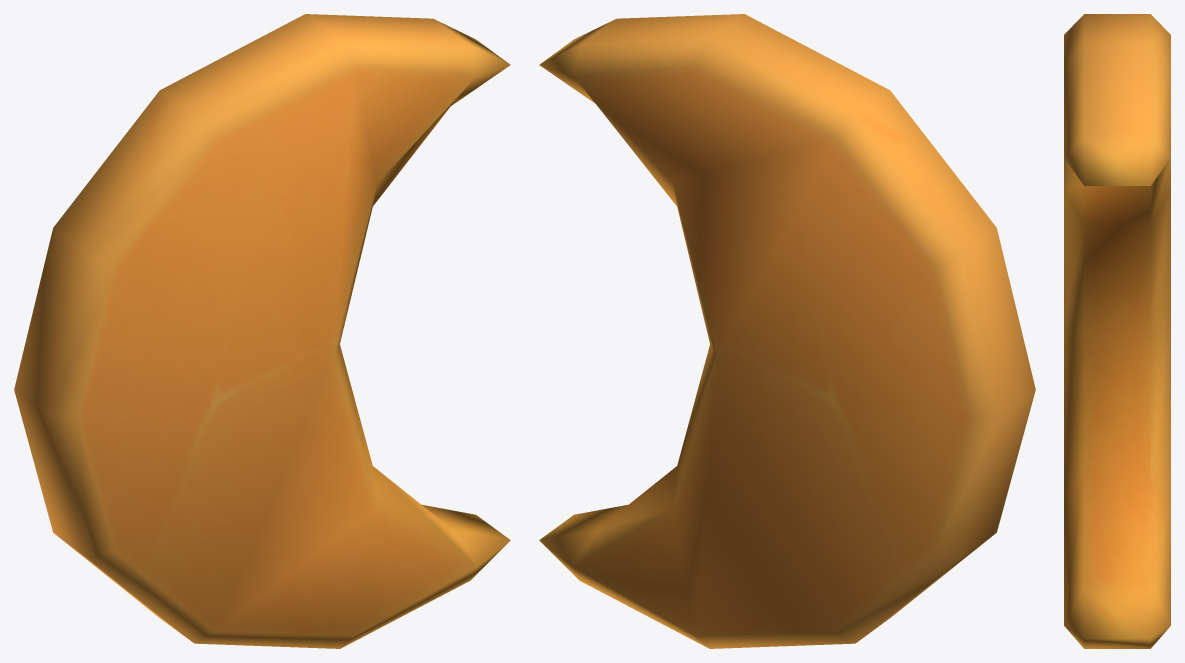
The model's file is Crescent_01.fbx.
3 views of the same model, side by side, from view 1: azimuth 30°, elevation 25°; view 2: azimuth 150°, elevation 25°; view 3: azimuth 270°, elevation 25° (orthographic). The views are drawn at different scales.
Parts seen in each view (by area): view 1: Crescent_01; view 2: Crescent_01; view 3: Crescent_01.
Boxes of the visible parts, x1,y1,x2,y2 form: Crescent_01: (14,14,510,648); Crescent_01: (539,14,1035,648); Crescent_01: (1064,14,1170,648).
Size of the model in its own units: 0.9517 by 1.2 by 0.2.
